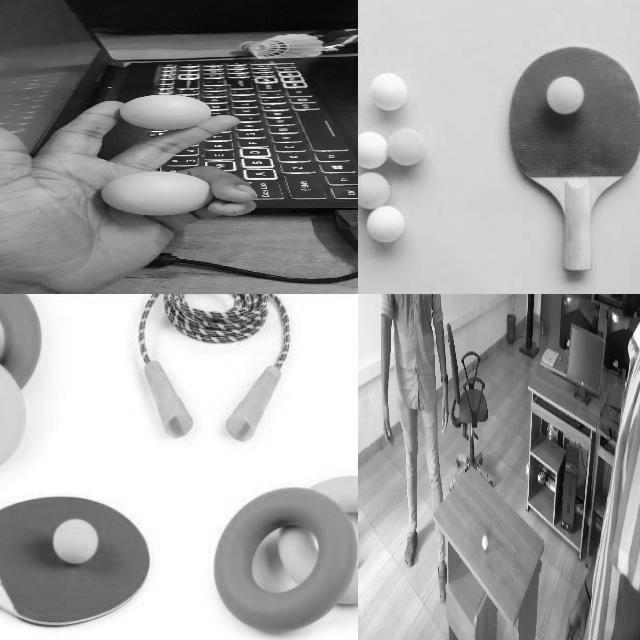ping-pong-ball: (101, 170, 212, 215), (118, 94, 212, 129), (56, 519, 96, 563), (387, 128, 425, 166), (547, 76, 585, 114), (370, 72, 408, 110), (367, 207, 405, 245), (358, 171, 390, 210), (358, 129, 388, 168), (482, 536, 487, 552)
